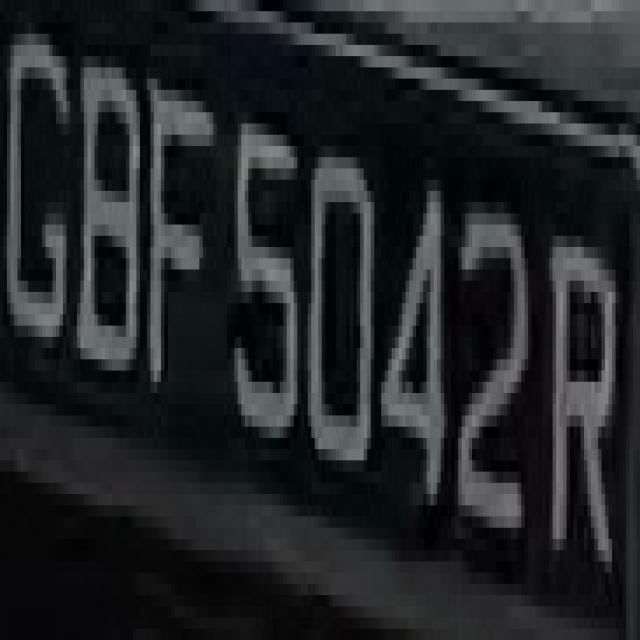0: (300, 101, 378, 494)
2: (448, 146, 532, 618)
4: (374, 135, 455, 550)
5: (217, 101, 301, 472)
B: (80, 45, 144, 415)
F: (147, 45, 217, 449)
G: (7, 34, 80, 404)
R: (542, 191, 623, 573)
